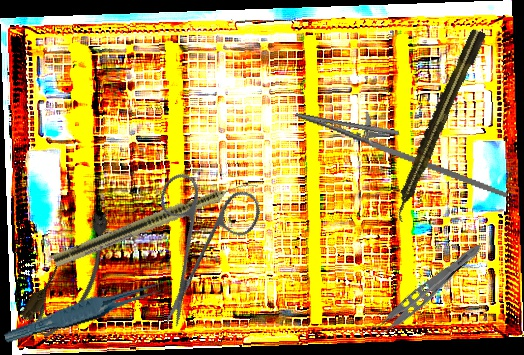Cannula: (16, 204, 131, 344)
Handpiece: (51, 172, 260, 271), (386, 27, 489, 223)
Iris Scissors: (108, 146, 292, 331)
Needle Holder: (288, 94, 519, 199)
Tissue Forceps: (364, 233, 486, 345), (0, 278, 172, 345)
